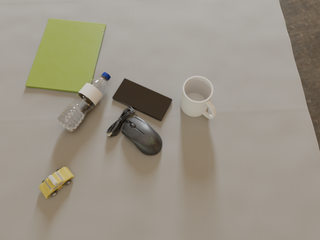book: (25, 18, 106, 93)
bottle: (57, 72, 111, 132)
cup: (181, 76, 216, 119)
mouse: (106, 107, 162, 155)
phone: (113, 78, 172, 121)
toy_car: (39, 167, 74, 199)
